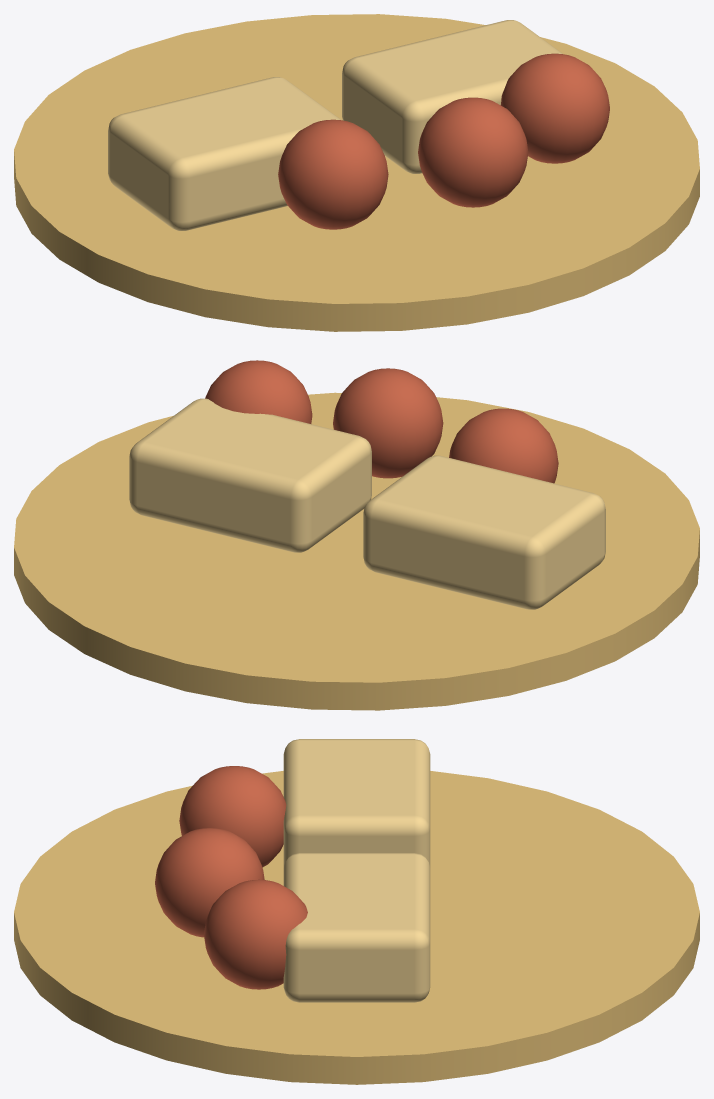
File: royal-court-and-throne-palace-bread-and-fruit-platter-ebb55648__29412.glb
The picture shows the model from 3 angles, top to bottom: view 1: azimuth 30°, elevation 25°; view 2: azimuth 150°, elevation 25°; view 3: azimuth 270°, elevation 25°; orthographic projection.
Visible parts, largest first — view 1: bread-and-fruit-platter; view 2: bread-and-fruit-platter; view 3: bread-and-fruit-platter.
Boxes of the visible parts, box(x1,y1,x2,y2) form: bread-and-fruit-platter: box(14, 14, 699, 331); bread-and-fruit-platter: box(14, 360, 699, 710); bread-and-fruit-platter: box(14, 739, 699, 1084).
Bounding box in the file's own units: 0.56 × 0.115 × 0.56.
